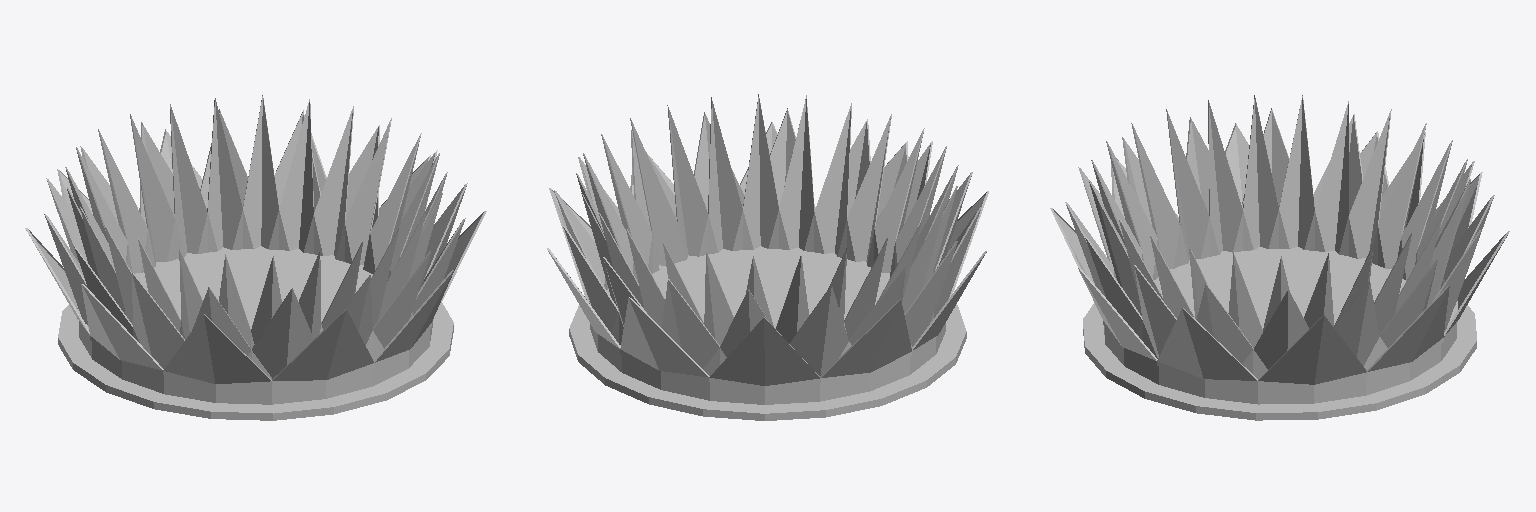
Rendered from portal_000019.obj.
3 renders of one model, left to right at view 1: azimuth 30°, elevation 25°; view 2: azimuth 150°, elevation 25°; view 3: azimuth 270°, elevation 25°, orthographic.
Visible parts, largest first — view 1: Cylinder.001, pCylinder1, Cylinder; view 2: Cylinder.001, pCylinder1, Cylinder; view 3: Cylinder.001, pCylinder1, Cylinder.
Boxes of the visible parts, x1=… form: Cylinder.001: x1=65, y1=95, x2=447, y2=348; pCylinder1: x1=25, y1=129, x2=486, y2=420; Cylinder: x1=44, y1=109, x2=467, y2=379; Cylinder.001: x1=576, y1=94, x2=958, y2=345; pCylinder1: x1=547, y1=122, x2=988, y2=420; Cylinder: x1=554, y1=108, x2=981, y2=376; Cylinder.001: x1=1089, y1=95, x2=1470, y2=347; pCylinder1: x1=1050, y1=123, x2=1509, y2=420; Cylinder: x1=1065, y1=108, x2=1494, y2=379.
Size of the model in its own units: 7.31 by 2.9 by 7.39.